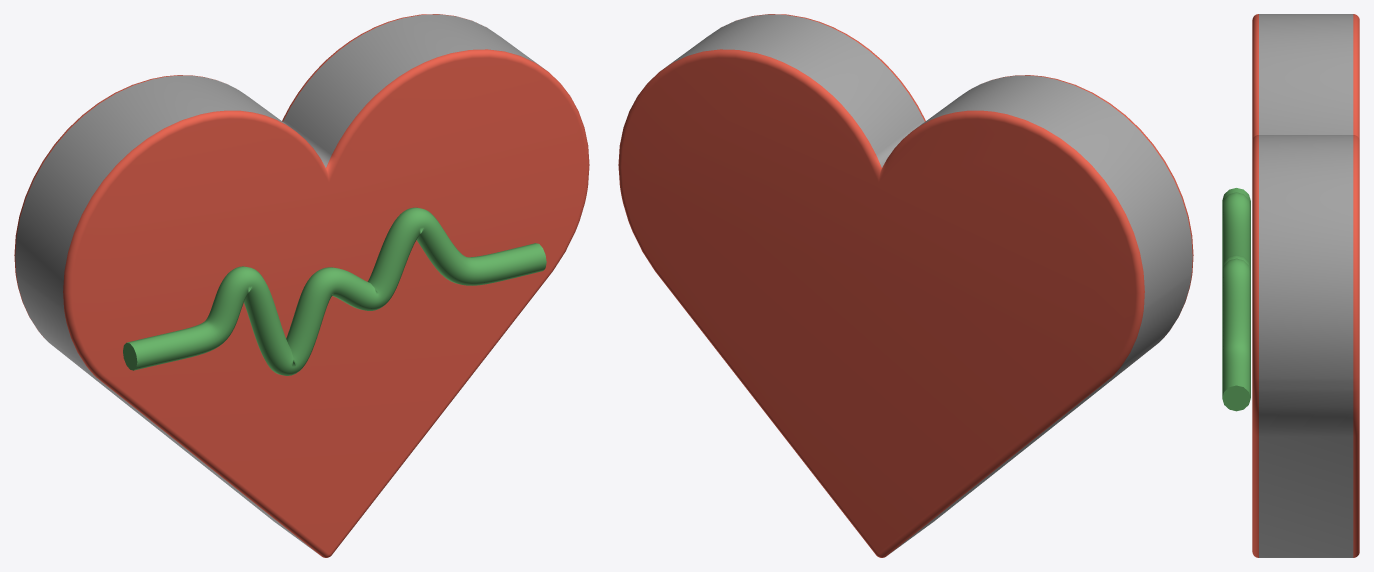
Rendered from health-3d-animated-icon-211988357254.glb.
The picture shows the model from 3 angles, left to right: view 1: azimuth 30°, elevation 25°; view 2: azimuth 150°, elevation 25°; view 3: azimuth 270°, elevation 25°; orthographic projection.
Visible parts, largest first — view 1: Curve.004, NurbsPath; view 2: Curve.004; view 3: Curve.004, NurbsPath.
Part boxes in pixels (x1,y1,x2,y2): Curve.004: [14, 14, 589, 557]; NurbsPath: [123, 207, 546, 375]; Curve.004: [618, 14, 1193, 557]; Curve.004: [1252, 14, 1359, 557]; NurbsPath: [1222, 188, 1250, 411].
Size of the model in its own units: 1.68 by 1.44 by 0.3847.
